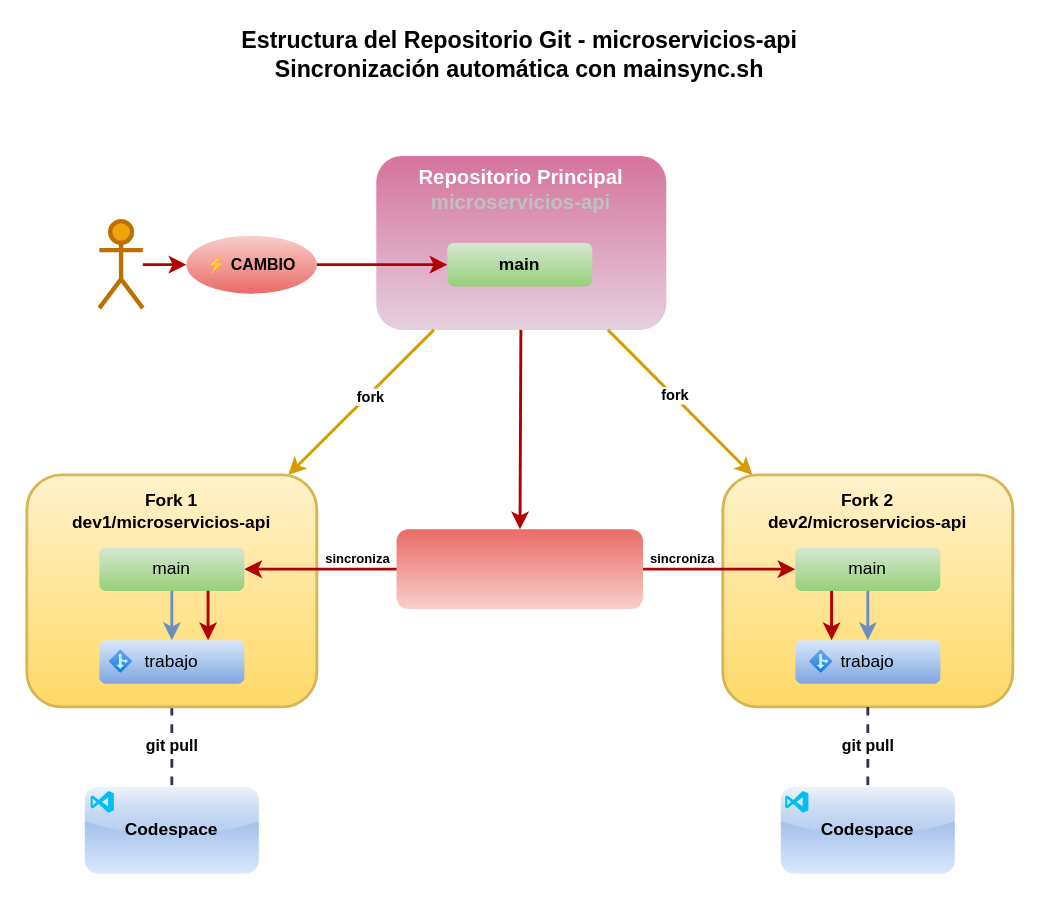
Image size: 1038x898. Some labels were removed from this diagram. Each missing label, with the centre of its shape:
"mainsync.sh Script de Sincronización" goes at [519,568].
"Owner" goes at [120,264].
